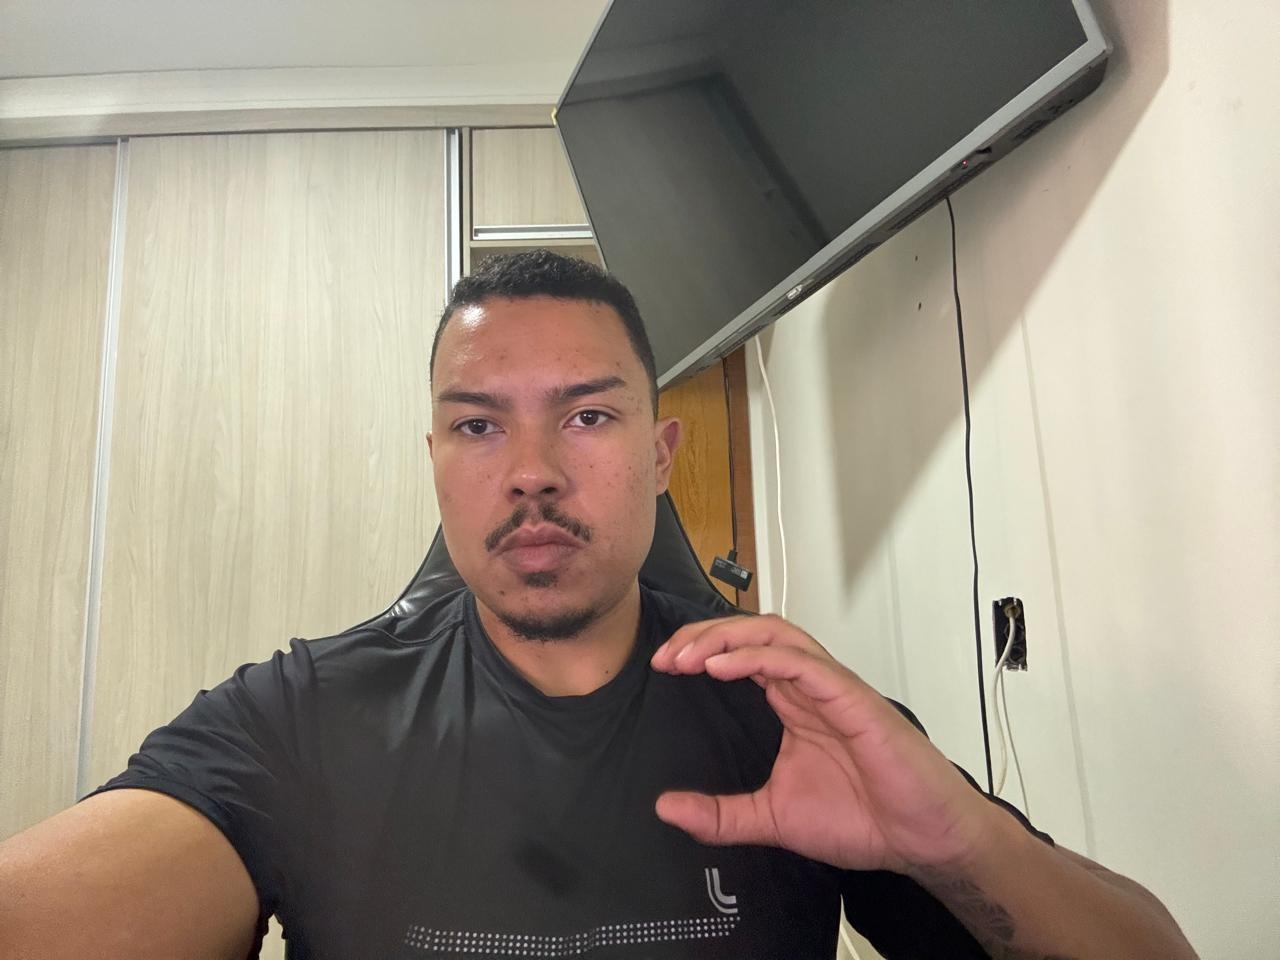c: (643, 599, 977, 889)
